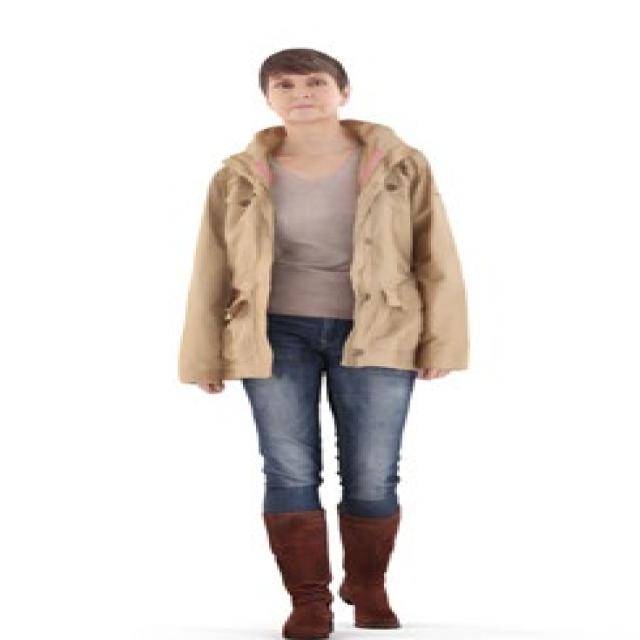standing: (172, 45, 473, 640)
